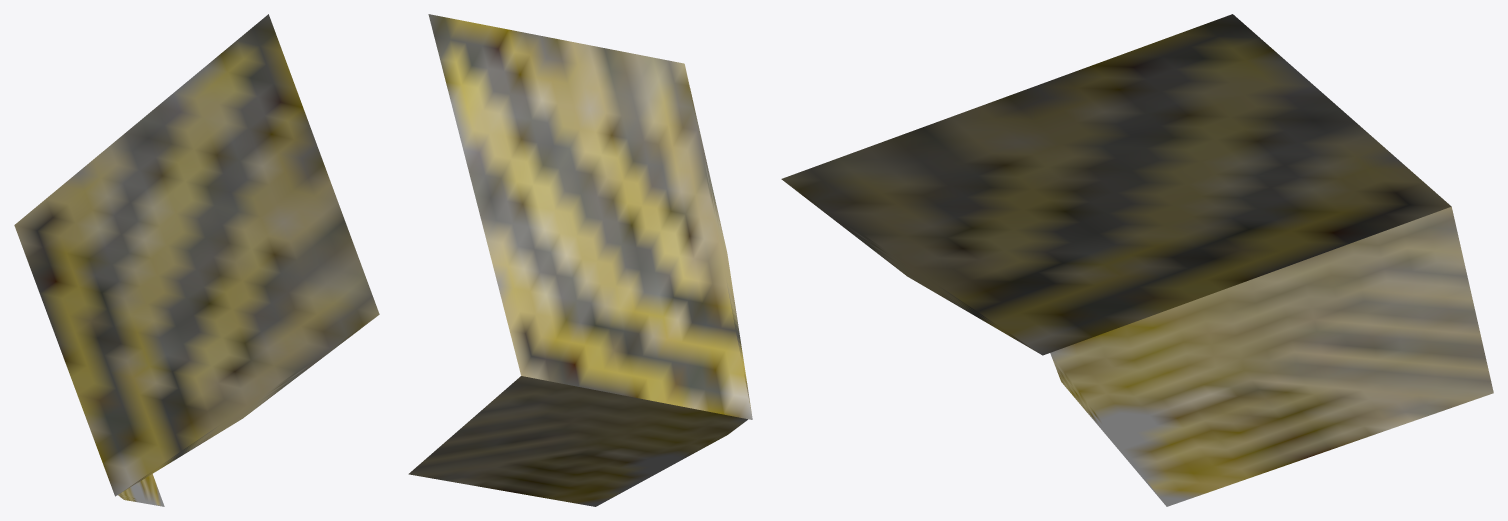
File: guard-left.glb
The picture shows the model from 3 angles, left to right: view 1: azimuth 30°, elevation 25°; view 2: azimuth 150°, elevation 25°; view 3: azimuth 270°, elevation 25°; orthographic projection. The views are drawn at different scales.
Parts seen in each view (by area): view 1: v-guard-left-panel-1, v-guard-left-panel-2; view 2: v-guard-left-panel-1, v-guard-left-panel-2; view 3: v-guard-left-panel-1, v-guard-left-panel-2.
Part boxes in pixels (x1,y1,x2,y2): v-guard-left-panel-1: (14, 14, 379, 496); v-guard-left-panel-2: (118, 474, 164, 506); v-guard-left-panel-1: (428, 14, 752, 419); v-guard-left-panel-2: (408, 376, 747, 506); v-guard-left-panel-1: (781, 14, 1451, 355); v-guard-left-panel-2: (1050, 206, 1493, 506).
Size of the model in its own units: 0.5939 by 1.11 by 1.25.
